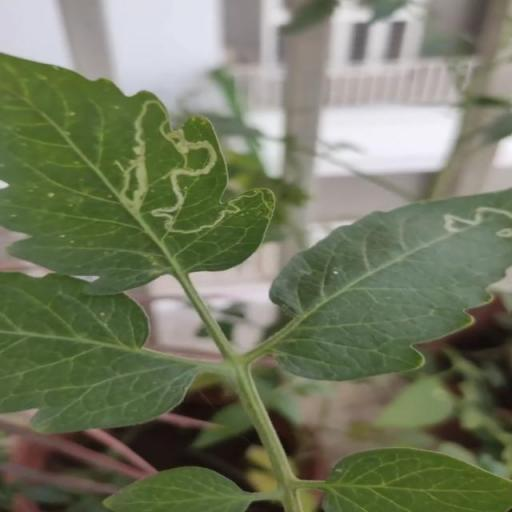disease_tomato: (0, 54, 278, 297), (270, 186, 512, 384)
